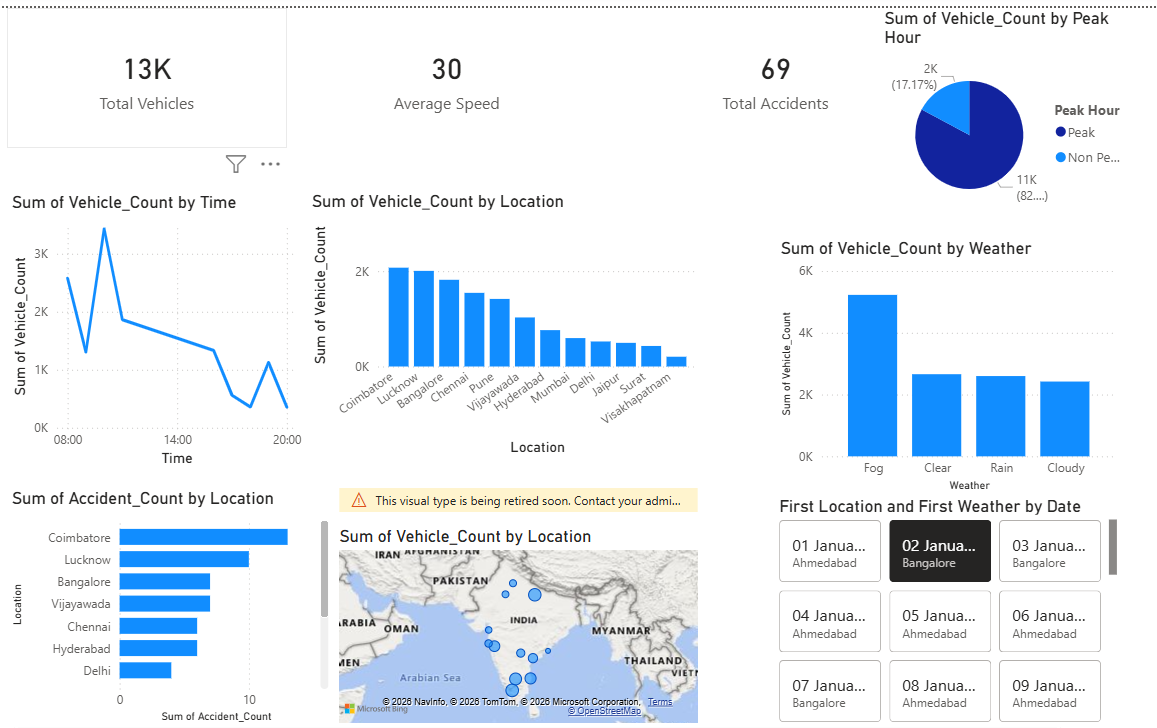

The page's visual inventory and layout, read from the dashboard file:
{"tool":"powerbi","page":{"name":"Page 1","canvas":[1280,720],"ordinal":0},"visuals":[{"type":"card","fields":{"Values":["Traffic_Data.Total Vehicles"]},"box":[10,0,280,140],"z":0},{"type":"card","fields":{"Values":["Traffic_Data.Average Speed"]},"box":[310,0,280,140],"z":1000},{"type":"card","fields":{"Values":["Traffic_Data.Total Accidents"]},"box":[639,0,280,140],"z":2000},{"type":"lineChart","fields":{"Y":["Sum(Traffic_Data.Vehicle_Count)"],"Category":["Traffic_Data.Time"]},"box":[10,183.3,300,280],"z":3000},{"type":"columnChart","fields":{"Category":["Traffic_Data.Location"],"Y":["Sum(Traffic_Data.Vehicle_Count)"]},"box":[310,183,395,270],"z":4000},{"type":"clusteredColumnChart","fields":{"Category":["Traffic_Data.Weather"],"Y":["Sum(Traffic_Data.Vehicle_Count)"]},"box":[778.3,230,346.7,258.3],"z":5000},{"type":"barChart","fields":{"Category":["Traffic_Data.Location"],"Y":["Sum(Traffic_Data.Accident_Count)"]},"box":[10,480,326.7,240],"z":6000},{"type":"pieChart","fields":{"Category":["Traffic_Data.Peak Hour"],"Y":["Sum(Traffic_Data.Vehicle_Count)"]},"box":[883,0,263,216],"z":6001},{"type":"map","fields":{"Category":["Traffic_Data.Location"],"Size":["Sum(Traffic_Data.Vehicle_Count)"]},"box":[337,480,368,240],"z":6002},{"type":"advancedSlicerVisual","fields":{"Values":["Traffic_Data.Date"],"Label":["Min(Traffic_Data.Location)"]},"box":[778,488,347,232],"z":6003}]}

Visuals, with their boxes on the page's 1280x720 design canvas (x1, y1, x2, y2). These are canvas units, not pixel positions in the 1157x728 screenshot, which may show the page scaled, cropped or inside an application window:
card - Traffic_Data.Total Vehicles: left=10, top=0, right=290, bottom=140
card - Traffic_Data.Average Speed: left=310, top=0, right=590, bottom=140
card - Traffic_Data.Total Accidents: left=639, top=0, right=919, bottom=140
lineChart - Sum(Traffic_Data.Vehicle_Count) x Traffic_Data.Time: left=10, top=183, right=310, bottom=463
columnChart - Traffic_Data.Location x Sum(Traffic_Data.Vehicle_Count): left=310, top=183, right=705, bottom=453
clusteredColumnChart - Traffic_Data.Weather x Sum(Traffic_Data.Vehicle_Count): left=778, top=230, right=1125, bottom=488
barChart - Traffic_Data.Location x Sum(Traffic_Data.Accident_Count): left=10, top=480, right=337, bottom=720
pieChart - Traffic_Data.Peak Hour x Sum(Traffic_Data.Vehicle_Count): left=883, top=0, right=1146, bottom=216
map - Traffic_Data.Location x Sum(Traffic_Data.Vehicle_Count): left=337, top=480, right=705, bottom=720
advancedSlicerVisual - Traffic_Data.Date x Min(Traffic_Data.Location): left=778, top=488, right=1125, bottom=720
